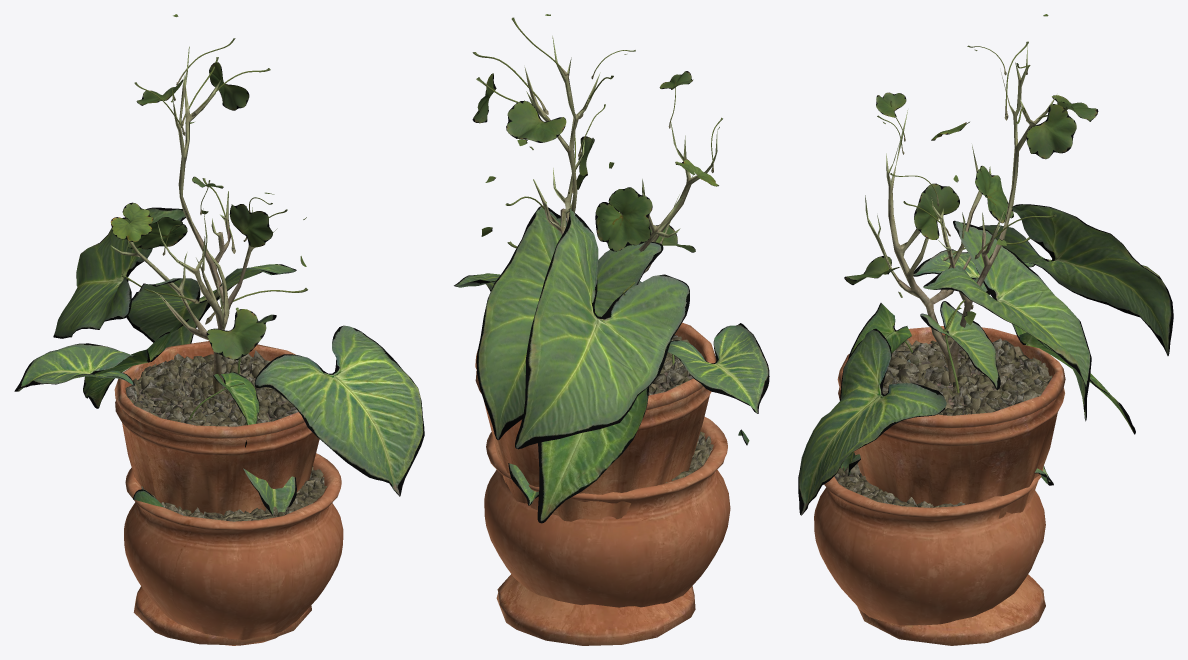
File: garden_plants.glb
3 views of the same model, side by side, from view 1: azimuth 30°, elevation 25°; view 2: azimuth 150°, elevation 25°; view 3: azimuth 270°, elevation 25° (orthographic). The views are drawn at different scales.
Parts seen in each view (by area): view 1: plant_02, plant_01; view 2: plant_02, plant_01; view 3: plant_02, plant_01.
Part boxes in pixels (left/top/right/bottom): plant_02: left=14, top=207, right=424, bottom=645; plant_01: left=110, top=14, right=319, bottom=645; plant_02: left=454, top=206, right=769, bottom=607; plant_01: left=472, top=14, right=722, bottom=645; plant_02: left=798, top=204, right=1173, bottom=625; plant_01: left=837, top=14, right=1098, bottom=645.
Bounding box in the file's own units: 0.8062 × 1.34 × 0.766.
4 materials, 4 textured.
